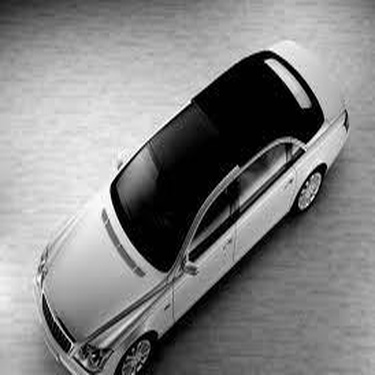car: (34, 47, 363, 359)
